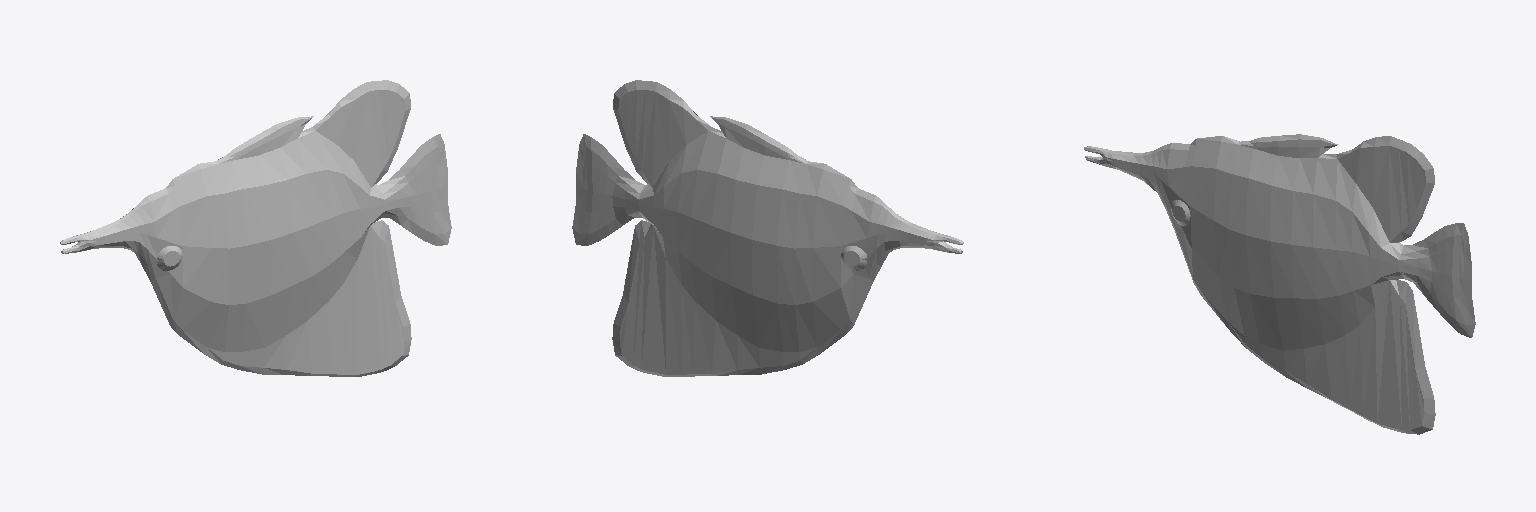
File: fish2.obj
The picture shows the model from 3 angles: view 1: azimuth 30°, elevation 25°; view 2: azimuth 150°, elevation 25°; view 3: azimuth 330°, elevation 25°; orthographic projection.
Parts seen in each view (by area): view 1: Object_2; view 2: Object_2; view 3: Object_2.
Boxes of the visible parts, x1=… form: Object_2: x1=60, y1=80, x2=451, y2=376; Object_2: x1=572, y1=80, x2=963, y2=376; Object_2: x1=1084, y1=134, x2=1475, y2=434.
Size of the model in its own units: 2.67 by 1.91 by 0.3158.